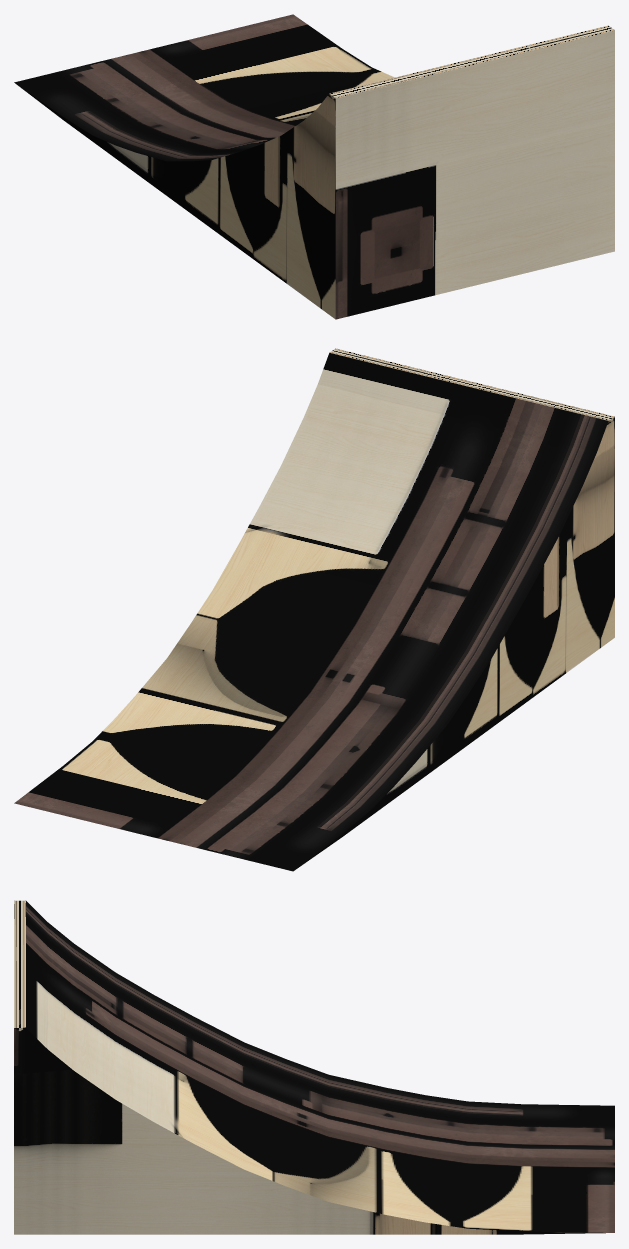
3 renders of one model, top to bottom at view 1: azimuth 30°, elevation 25°; view 2: azimuth 150°, elevation 25°; view 3: azimuth 270°, elevation 25°, orthographic. The views are drawn at different scales.
Parts seen in each view (by area): view 1: Set1_Ramp01_2; view 2: Set1_Ramp01_2; view 3: Set1_Ramp01_2.
Part boxes in pixels (box(x1,y1,x2,y2)): Set1_Ramp01_2: box(14, 14, 614, 319); Set1_Ramp01_2: box(14, 348, 614, 871); Set1_Ramp01_2: box(14, 900, 614, 1234).
Bounding box in the file's own units: 246 × 186 × 491.
